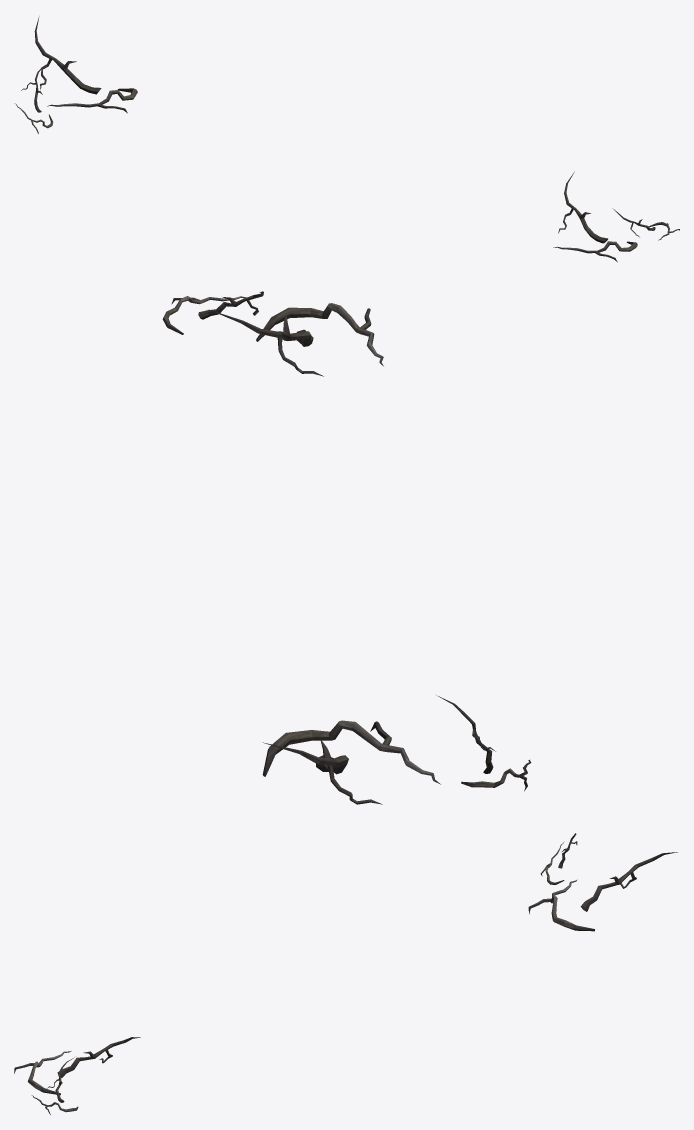
File: Area09_7.fbx
3 renders of one model, top to bottom at view 1: azimuth 30°, elevation 25°; view 2: azimuth 150°, elevation 25°; view 3: azimuth 270°, elevation 25°, orthographic. The views are drawn at different scales.
Visible parts, largest first — view 1: Area09_7; view 2: Area09_7; view 3: Area09_7.
Part boxes in pixels (<box>): Area09_7: <box>14,16,679,262</box>; Area09_7: <box>162,291,531,804</box>; Area09_7: <box>14,833,677,1114</box>.
Bounding box in the file's own units: 1878 × 366 × 2425.
